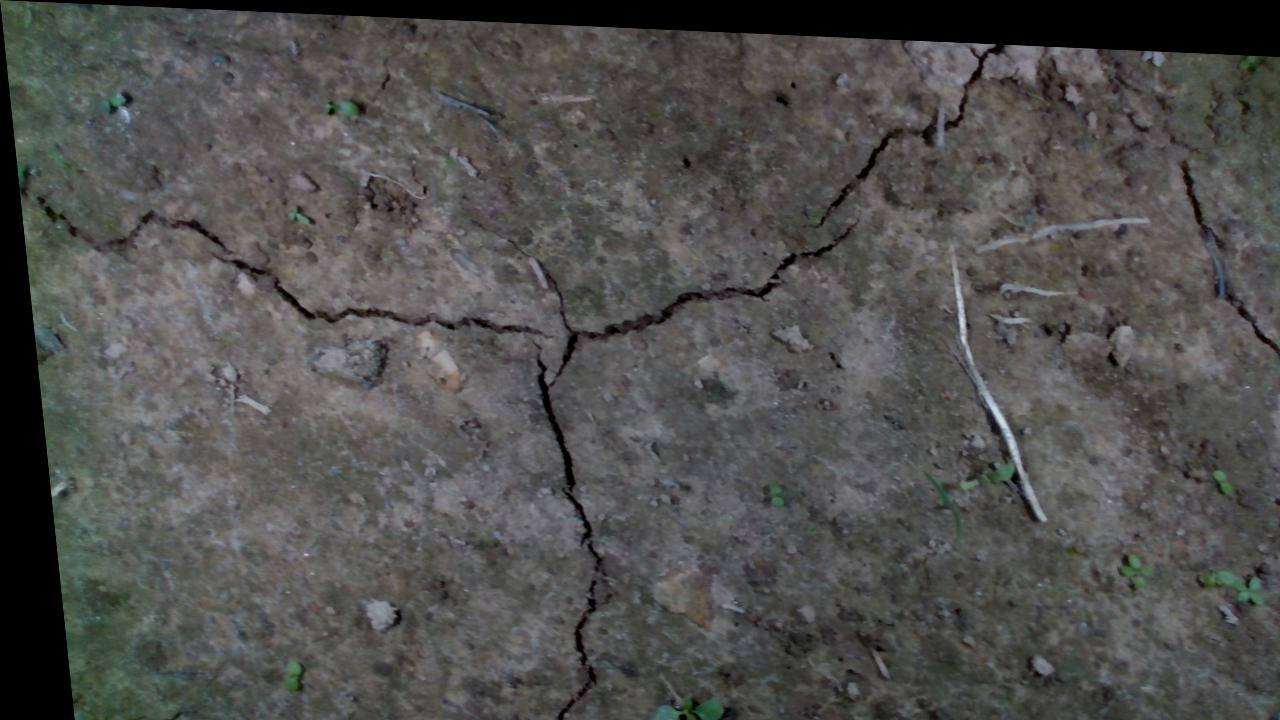weed: (631, 679, 711, 719), (84, 85, 142, 114), (1104, 540, 1143, 579), (748, 474, 777, 503), (267, 656, 293, 688)
